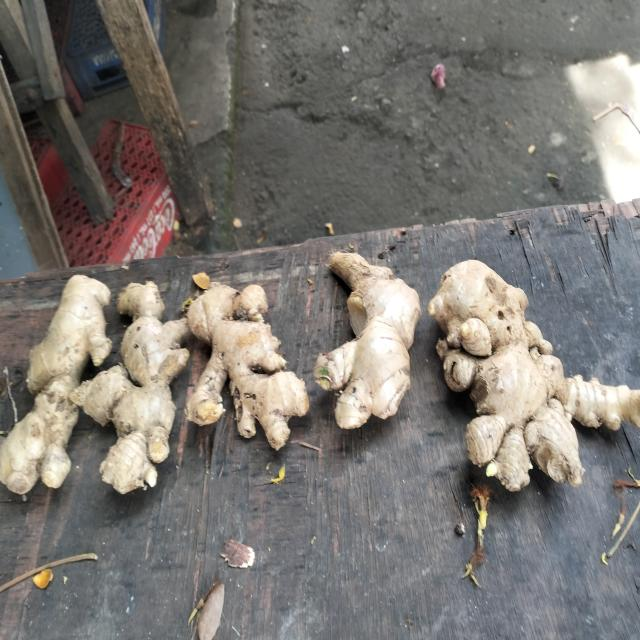ginger: (422, 217, 640, 489), (0, 226, 95, 500), (92, 253, 184, 523), (187, 253, 306, 454), (309, 245, 428, 434)
